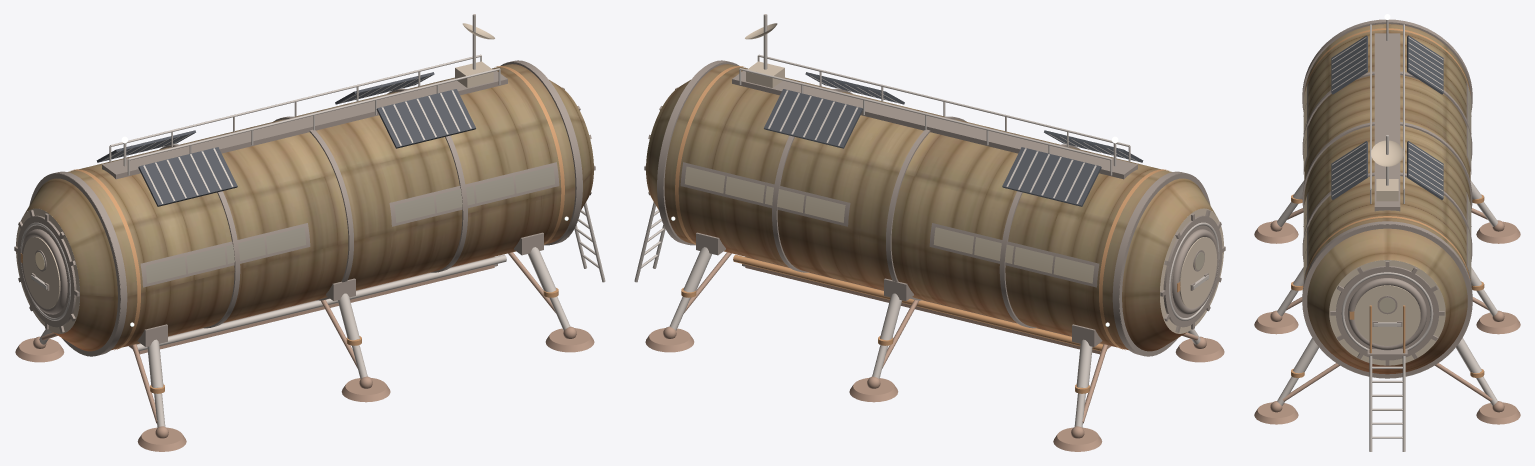
File: W02_plain.glb
The picture shows the model from 3 angles, left to right: view 1: azimuth 30°, elevation 25°; view 2: azimuth 150°, elevation 25°; view 3: azimuth 270°, elevation 25°; orthographic projection. The views are drawn at different scales.
Visible parts, largest first — view 1: hull, cone_rib, hatch_light_ring, leg_brace, hatch_porthole, end_plate; view 2: hull, cone_rib, hatch_light_ring, end_plate, leg_brace, hatch_porthole; view 3: hull, cone_rib, hatch_light_ring, end_plate, leg_brace, hatch_porthole, antenna_dish.
Boxes of the visible parts, <box> form: hull: <box>24,64,593,351</box>; cone_rib: <box>14,60,595,356</box>; hatch_light_ring: <box>20,14,605,427</box>; leg_brace: <box>15,252,594,451</box>; hatch_porthole: <box>35,166,554,283</box>; end_plate: <box>16,61,592,393</box>; hull: <box>646,64,1215,351</box>; cone_rib: <box>644,60,1225,356</box>; hatch_light_ring: <box>634,14,1219,427</box>; end_plate: <box>675,61,1223,393</box>; leg_brace: <box>645,252,1224,451</box>; hatch_porthole: <box>685,166,1204,283</box>; hull: <box>1304,24,1470,374</box>; cone_rib: <box>1302,19,1472,378</box>; hatch_light_ring: <box>1277,20,1497,451</box>; end_plate: <box>1291,28,1484,377</box>; leg_brace: <box>1254,208,1520,424</box>; hatch_porthole: <box>1303,86,1471,312</box>; antenna_dish: <box>1371,140,1403,166</box>.
Bounding box in the file's own units: 10.52 × 5.25 × 4.8.
Materials: 9 (1 with a texture image).
